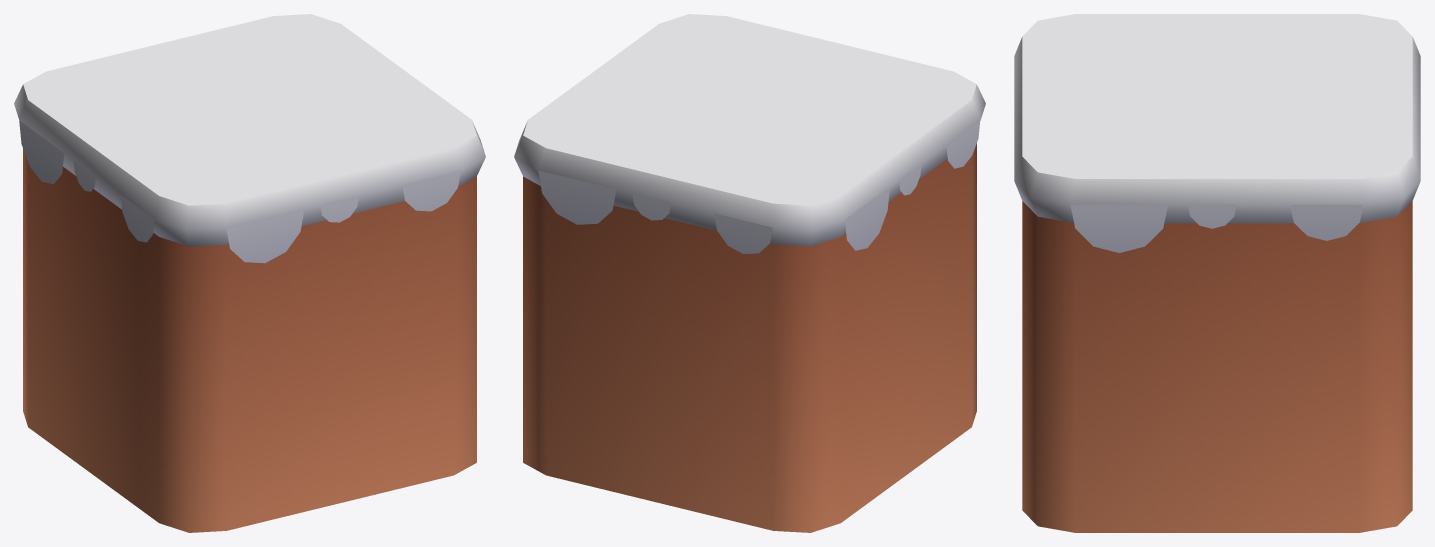
The model's file is block-snow-overhang-large-tall.glb.
3 views of the same model, side by side, from view 1: azimuth 30°, elevation 25°; view 2: azimuth 150°, elevation 25°; view 3: azimuth 270°, elevation 25° (orthographic). The views are drawn at different scales.
Visible parts, largest first — view 1: block-snow-overhang-large-tall; view 2: block-snow-overhang-large-tall; view 3: block-snow-overhang-large-tall.
Boxes of the visible parts, box(x1,y1,x2,y2) form: block-snow-overhang-large-tall: box(14, 14, 485, 532); block-snow-overhang-large-tall: box(514, 14, 985, 532); block-snow-overhang-large-tall: box(1014, 14, 1420, 532).
Size of the model in its own units: 2.08 by 2 by 2.08.
1 material, 1 textured.
